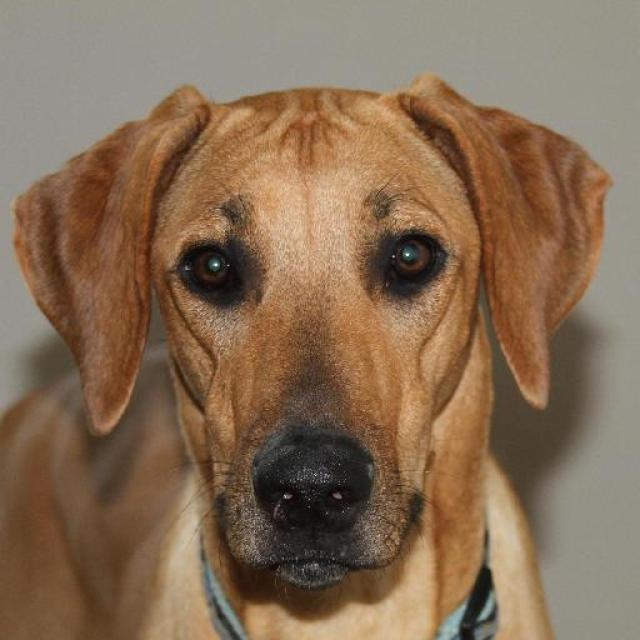relax: (45, 152, 562, 618)
